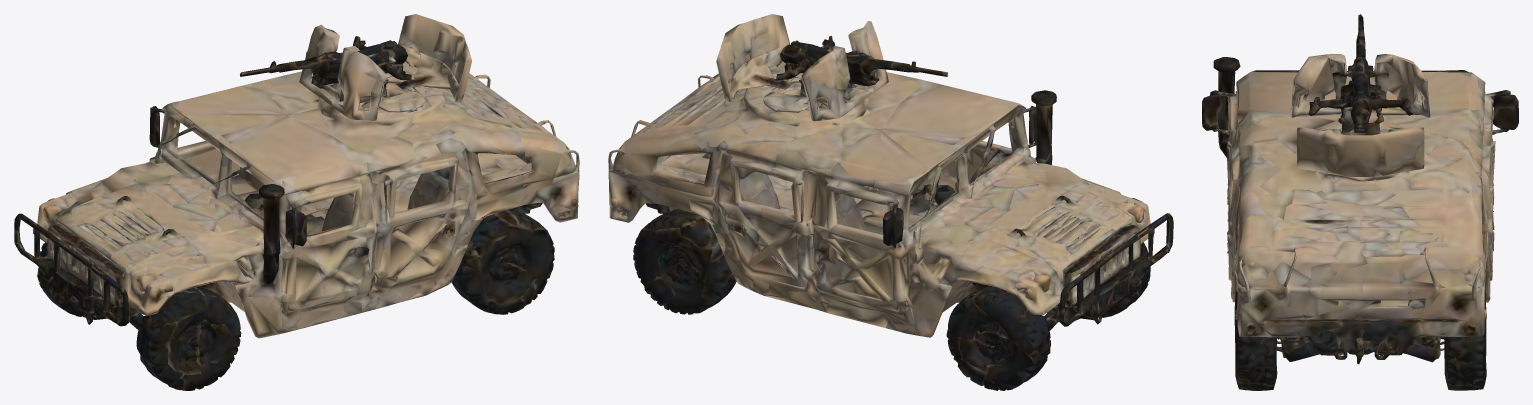
File: mil_humvee.glb
3 views of the same model, side by side, from view 1: azimuth 30°, elevation 25°; view 2: azimuth 150°, elevation 25°; view 3: azimuth 270°, elevation 25° (orthographic). The views are drawn at different scales.
Visible parts, largest first — view 1: mesh_node; view 2: mesh_node; view 3: mesh_node.
Part boxes in pixels (x1=…): mesh_node: x1=14, y1=14, x2=579, y2=390; mesh_node: x1=608, y1=14, x2=1173, y2=390; mesh_node: x1=1202, y1=14, x2=1518, y2=390.
Size of the model in its own units: 1.9 by 0.9906 by 1.04.
Materials: 1 (1 with a texture image).
